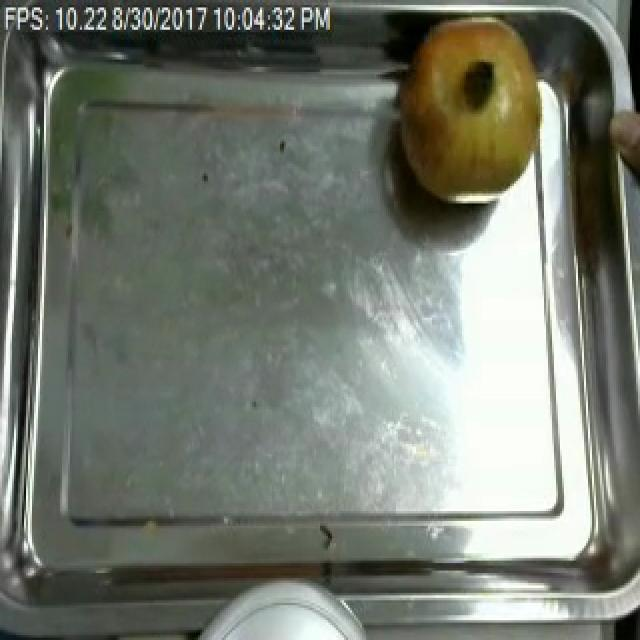fruit: (390, 10, 550, 213), (606, 97, 640, 193)
